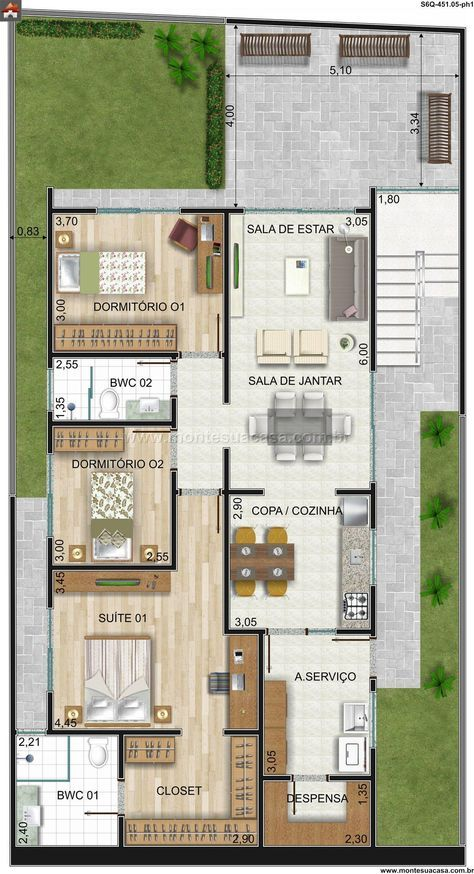room: (222, 206, 377, 497), (43, 565, 264, 736), (47, 205, 231, 360), (221, 487, 377, 638), (47, 419, 179, 573), (116, 730, 266, 854), (258, 627, 376, 782), (10, 727, 126, 856), (47, 351, 181, 432), (259, 771, 375, 855)
